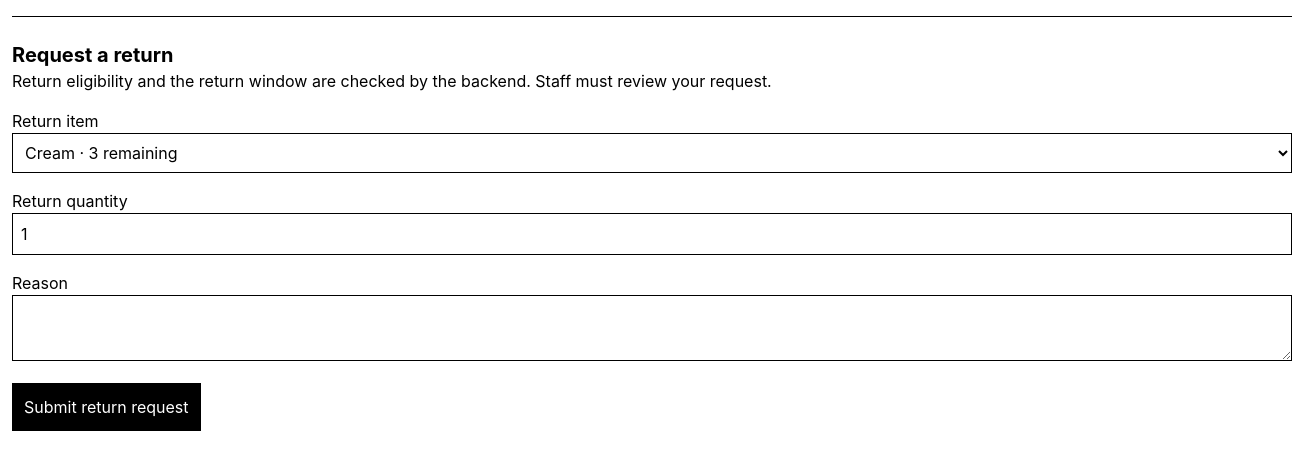
it: return requests › shows backend return-window failures and preserves the request for correction
This screenshot has width=1304, height=472.
In the text box labelled "Reason": (652, 328) [12,295,1292,361], type "Damaged"
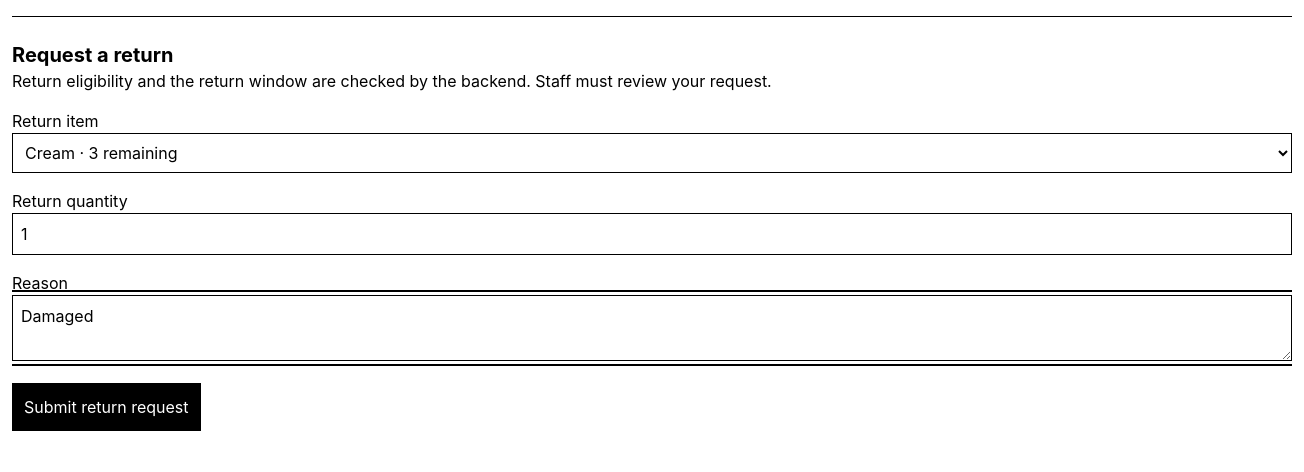
Click the button "Submit return request": (106, 407) [12,383,200,431]
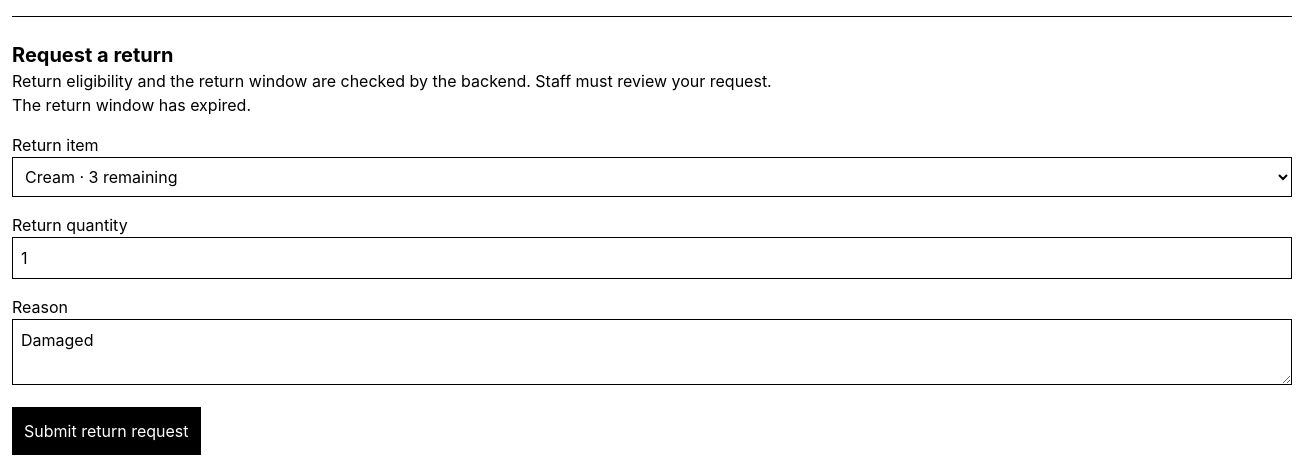
Now the message shows "return window has expired", box [12,95,251,115]
